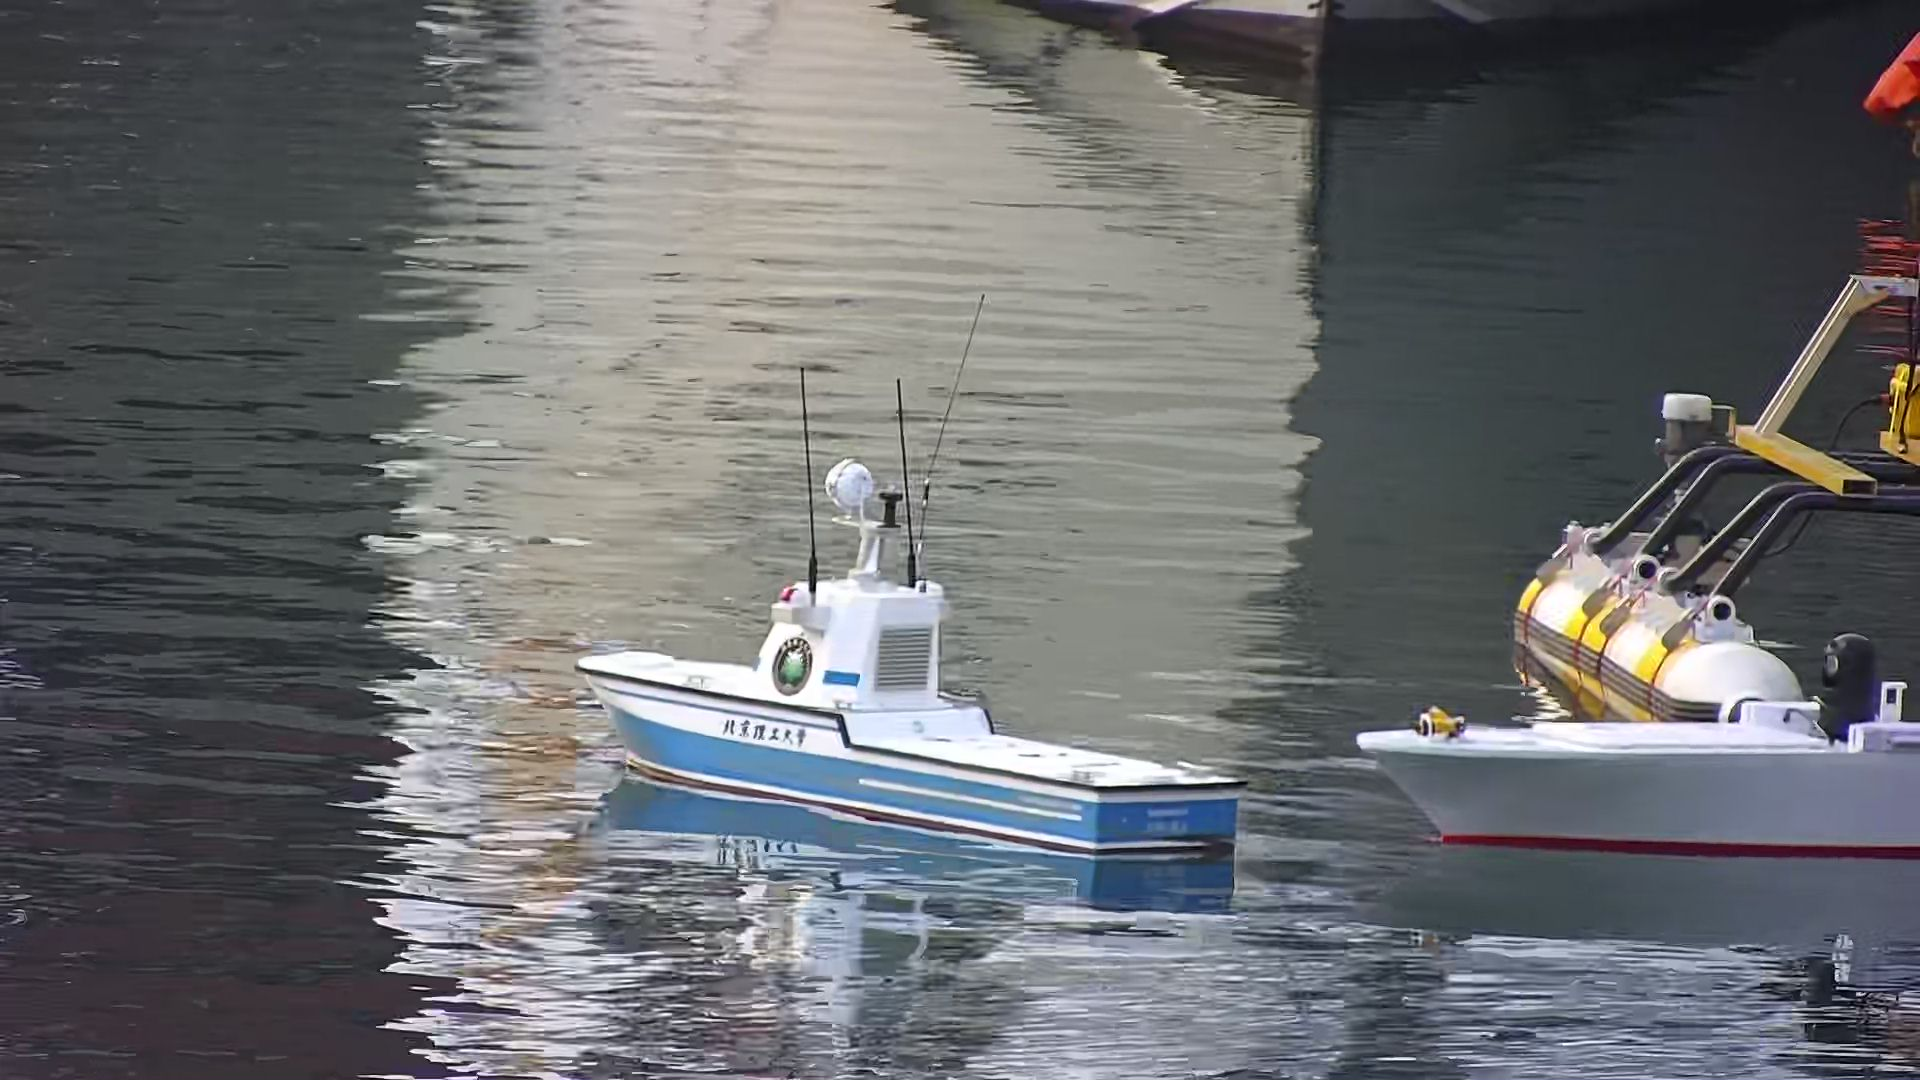boat: (567, 501, 1238, 874), (1344, 622, 1920, 858)
